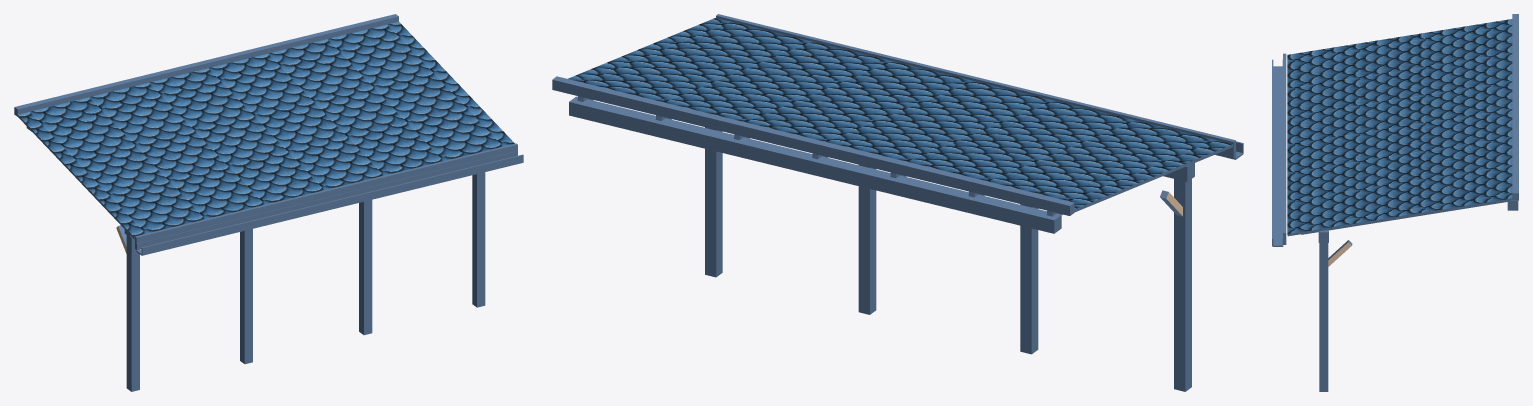
Rendered from Roof_Porch_6x3.fbx.
3 renders of one model, left to right at view 1: azimuth 30°, elevation 25°; view 2: azimuth 150°, elevation 25°; view 3: azimuth 270°, elevation 25°, orthographic. The views are drawn at different scales.
Visible parts, largest first — view 1: Roof_Porch_6x3; view 2: Roof_Porch_6x3; view 3: Roof_Porch_6x3.
Boxes of the visible parts, <box> form: Roof_Porch_6x3: <box>14,14,523,391</box>; Roof_Porch_6x3: <box>552,14,1243,391</box>; Roof_Porch_6x3: <box>1272,14,1518,391</box>.
Size of the model in its own units: 6.4 by 3.41 by 3.72.
Materials: 2 (2 with a texture image).
